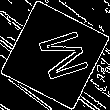M_W: (24, 25, 86, 85)
